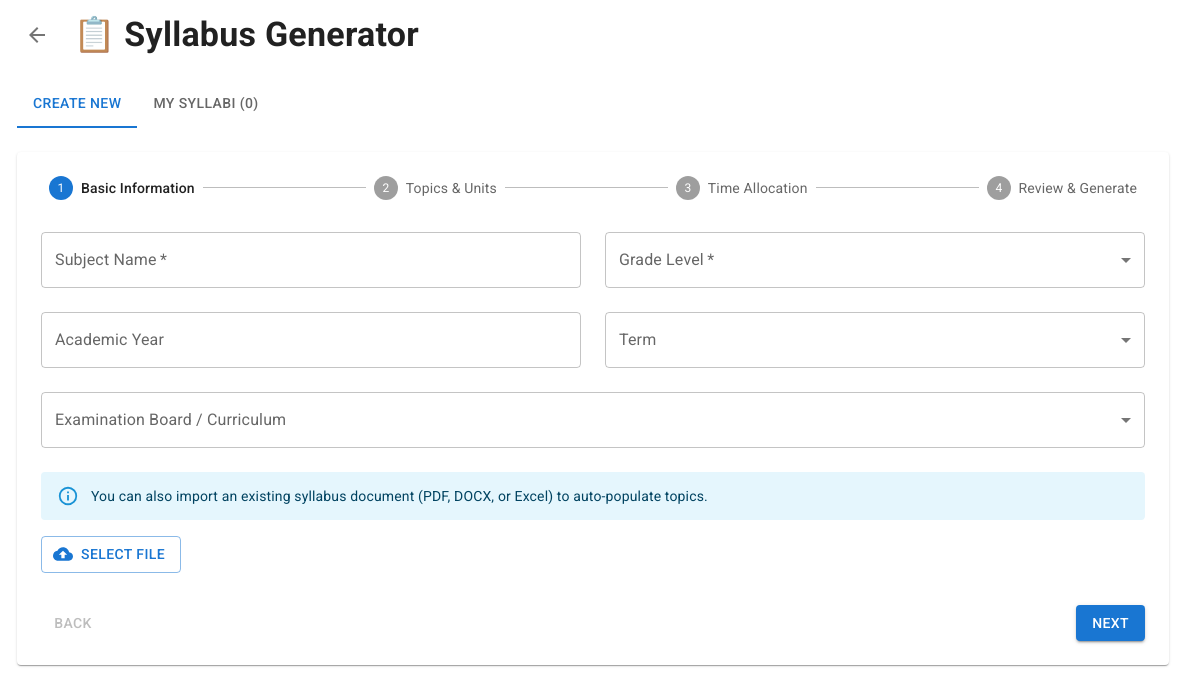
it: SyllabusGenerator Component › displays saved syllabi in My Syllabi tab
# Click My Syllabi tab
Click the tab "My Syllabi (0)" at (206, 104), box [137,80,275,128]
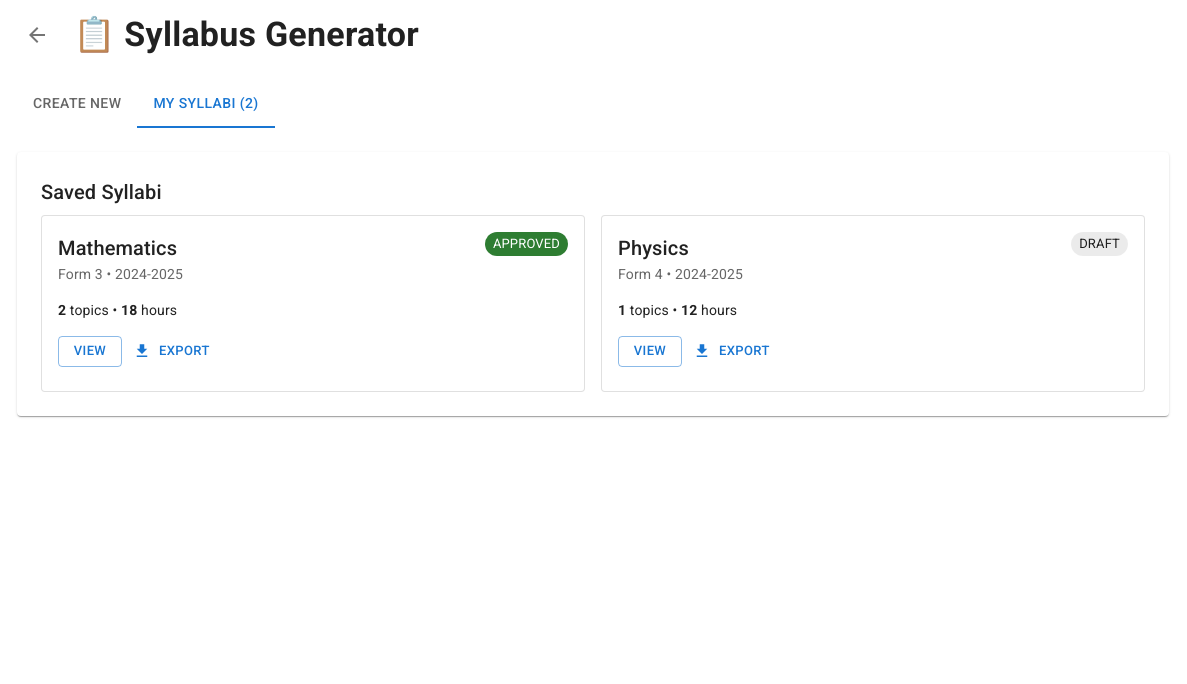
Expected: the heading "Mathematics" is shown, [58,232,183,264]
Expected: the heading "Physics" is shown, [618,236,689,260]
